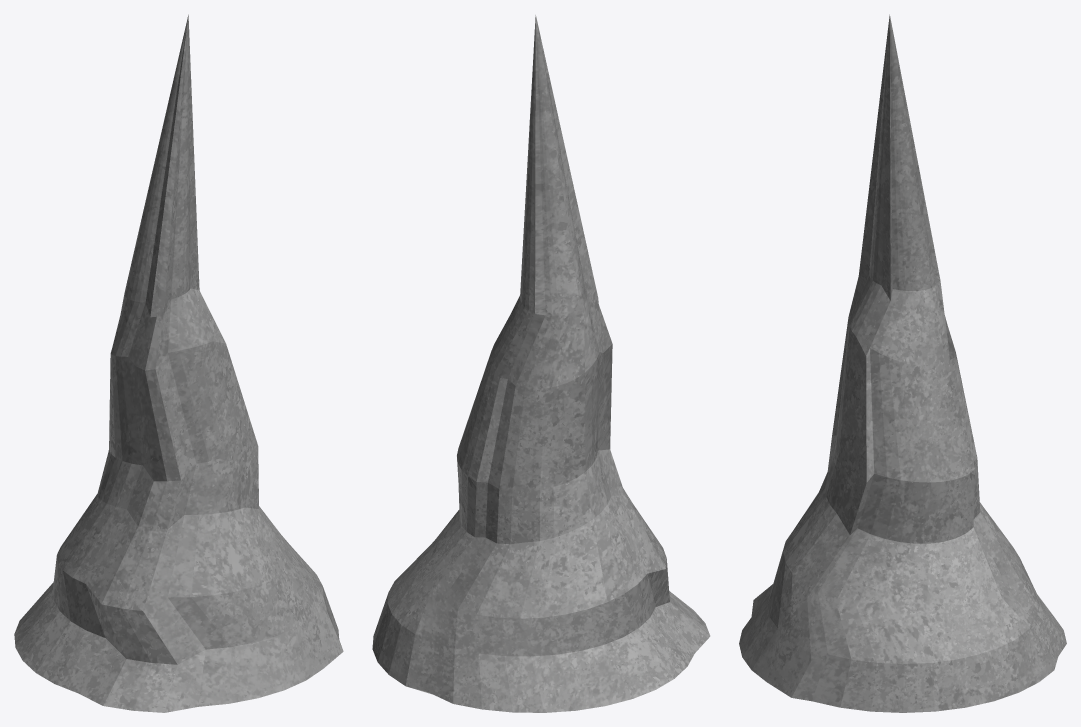
File: CaveSpike.fbx
3 views of the same model, side by side, from view 1: azimuth 30°, elevation 25°; view 2: azimuth 150°, elevation 25°; view 3: azimuth 270°, elevation 25° (orthographic).
Parts seen in each view (by area): view 1: Cave Spike; view 2: Cave Spike; view 3: Cave Spike.
Part boxes in pixels (x1,y1,x2,y2): Cave Spike: [14, 14, 343, 712]; Cave Spike: [372, 15, 710, 712]; Cave Spike: [739, 14, 1066, 712].
Bounding box in the file's own units: 221 × 470 × 221.
